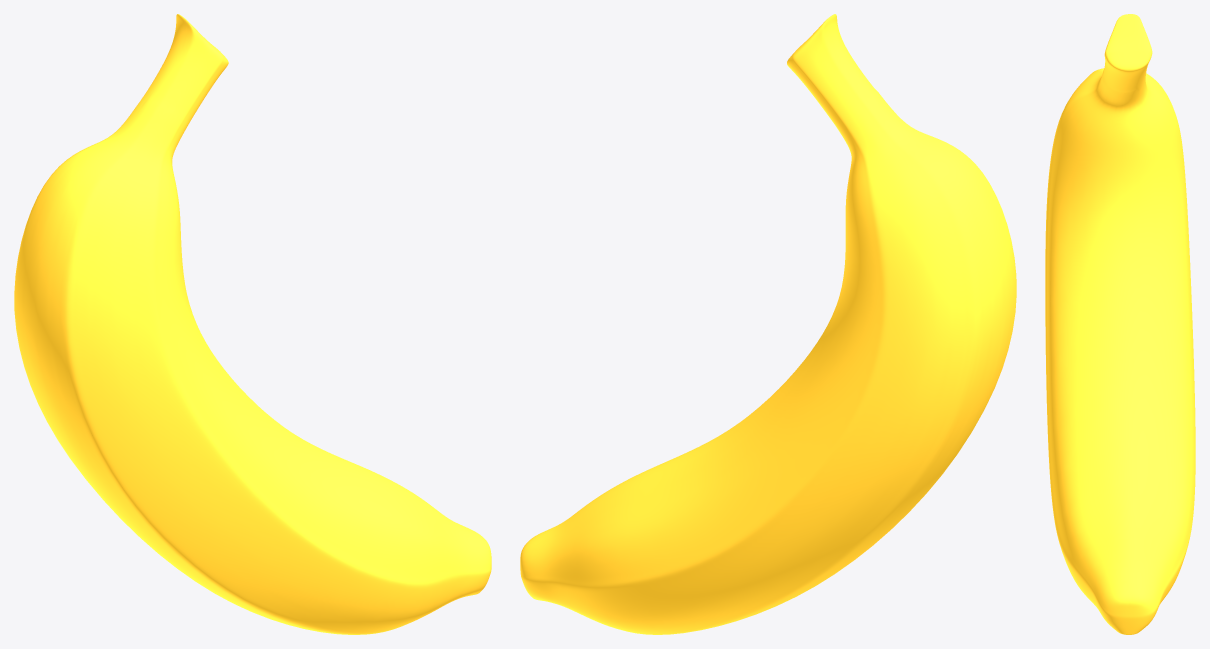
File: smallBanana.glb
3 views of the same model, side by side, from view 1: azimuth 30°, elevation 25°; view 2: azimuth 150°, elevation 25°; view 3: azimuth 270°, elevation 25° (orthographic). The views are drawn at different scales.
Parts seen in each view (by area): view 1: Object_2; view 2: Object_2; view 3: Object_2.
Boxes of the visible parts, bbox=[...] form: Object_2: bbox=[14, 14, 491, 634]; Object_2: bbox=[520, 14, 1016, 634]; Object_2: bbox=[1045, 14, 1195, 634].
Size of the model in its own units: 6.26 by 8.44 by 2.24.
